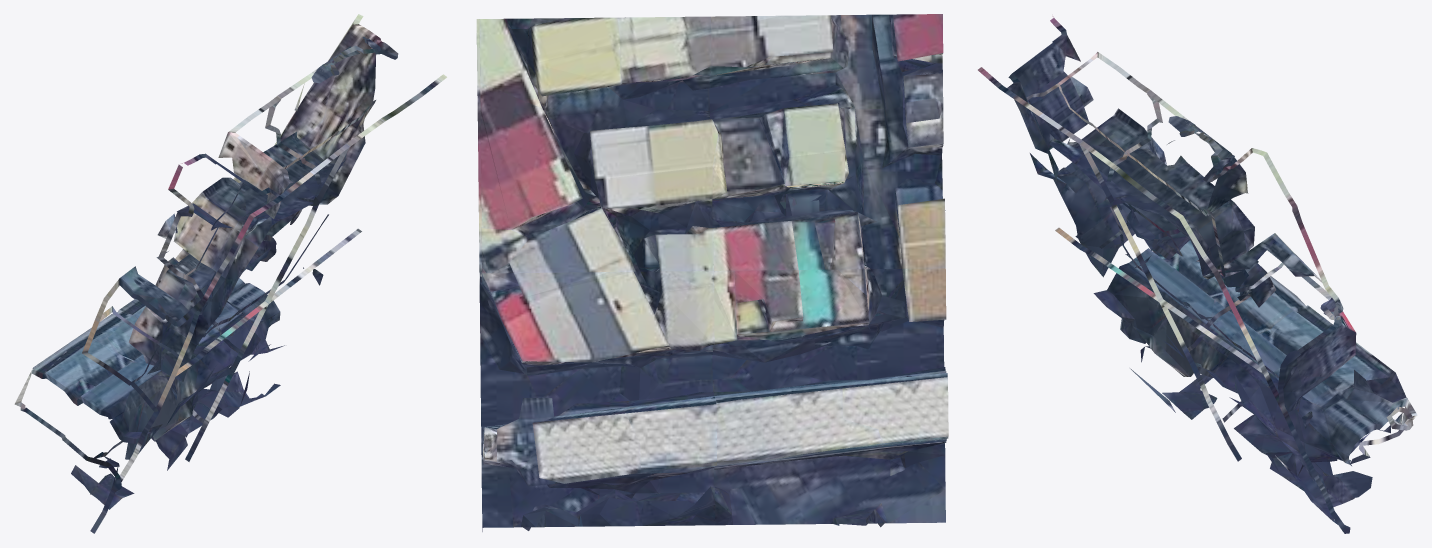
3 renders of one model, left to right at view 1: azimuth 30°, elevation 25°; view 2: azimuth 150°, elevation 25°; view 3: azimuth 270°, elevation 25°, orthographic. The views are drawn at different scales.
Size of the model in its own units: 85.06 by 77.13 by 76.49.
Materials: 2 (2 with a texture image).
